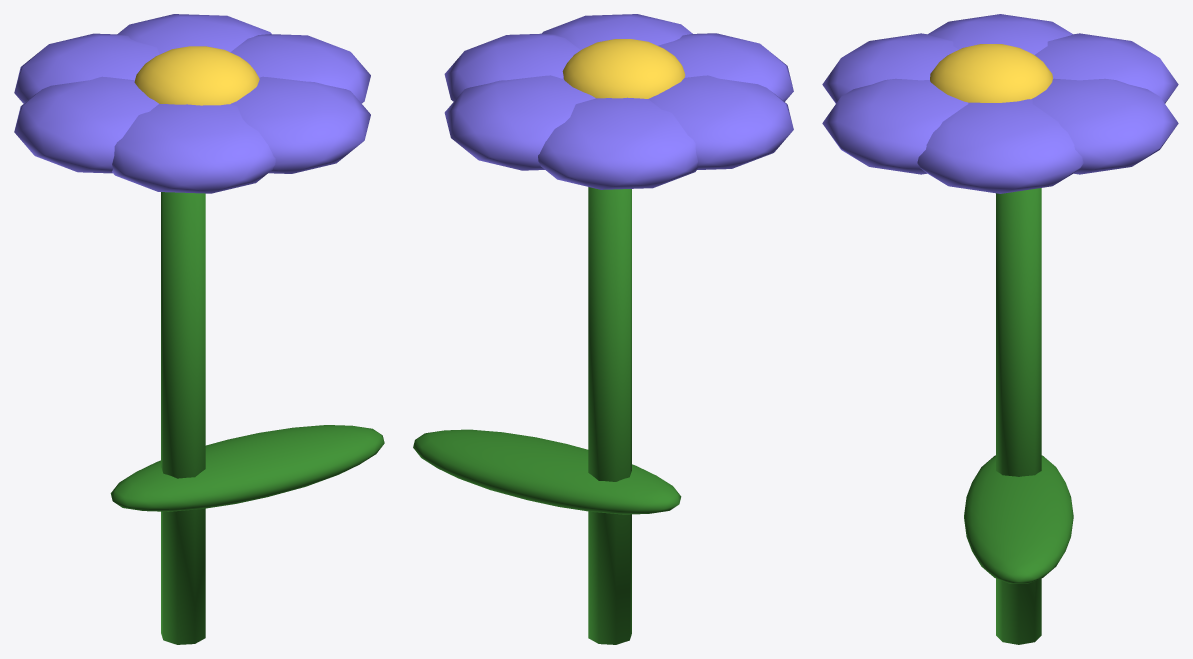
Rendered from flower-purple.glb.
3 renders of one model, left to right at view 1: azimuth 30°, elevation 25°; view 2: azimuth 150°, elevation 25°; view 3: azimuth 270°, elevation 25°, orthographic. The views are drawn at different scales.
Parts seen in each view (by area): view 1: stem, leaf, petal.004, petal.003, petal.005, center, petal.002, petal, petal.001; view 2: stem, leaf, petal.002, petal.001, petal.003, center, petal, petal.004, petal.005; view 3: stem, petal, leaf, petal.001, petal.005, center, petal.002, petal.004, petal.003.
Part boxes in pixels (left/top/right/bottom): stem: left=161, top=192, right=205, bottom=644; leaf: left=110, top=425, right=384, bottom=511; petal.004: left=112, top=104, right=275, bottom=193; petal.003: left=14, top=76, right=158, bottom=173; petal.005: left=230, top=76, right=370, bottom=173; center: left=134, top=46, right=259, bottom=105; petal.002: left=14, top=33, right=159, bottom=103; petal: left=230, top=34, right=370, bottom=103; petal.001: left=117, top=14, right=271, bottom=54; stem: left=588, top=187, right=631, bottom=644; leaf: left=413, top=429, right=681, bottom=514; petal.002: left=538, top=97, right=697, bottom=189; petal.001: left=444, top=75, right=595, bottom=170; petal.003: left=648, top=75, right=793, bottom=169; center: left=562, top=39, right=685, bottom=98; petal: left=444, top=33, right=580, bottom=101; petal.004: left=658, top=33, right=793, bottom=101; petal.005: left=542, top=14, right=692, bottom=49; stem: left=996, top=188, right=1041, bottom=644; petal: left=917, top=99, right=1083, bottom=193; leaf: left=964, top=455, right=1073, bottom=583; petal.001: left=1031, top=78, right=1178, bottom=174; petal.005: left=822, top=78, right=968, bottom=174; center: left=930, top=44, right=1052, bottom=102; petal.002: left=1034, top=33, right=1178, bottom=103; petal.004: left=822, top=33, right=958, bottom=103; petal.003: left=928, top=14, right=1072, bottom=54.
Size of the model in its own units: 0.4507 by 0.702 by 0.3892.
